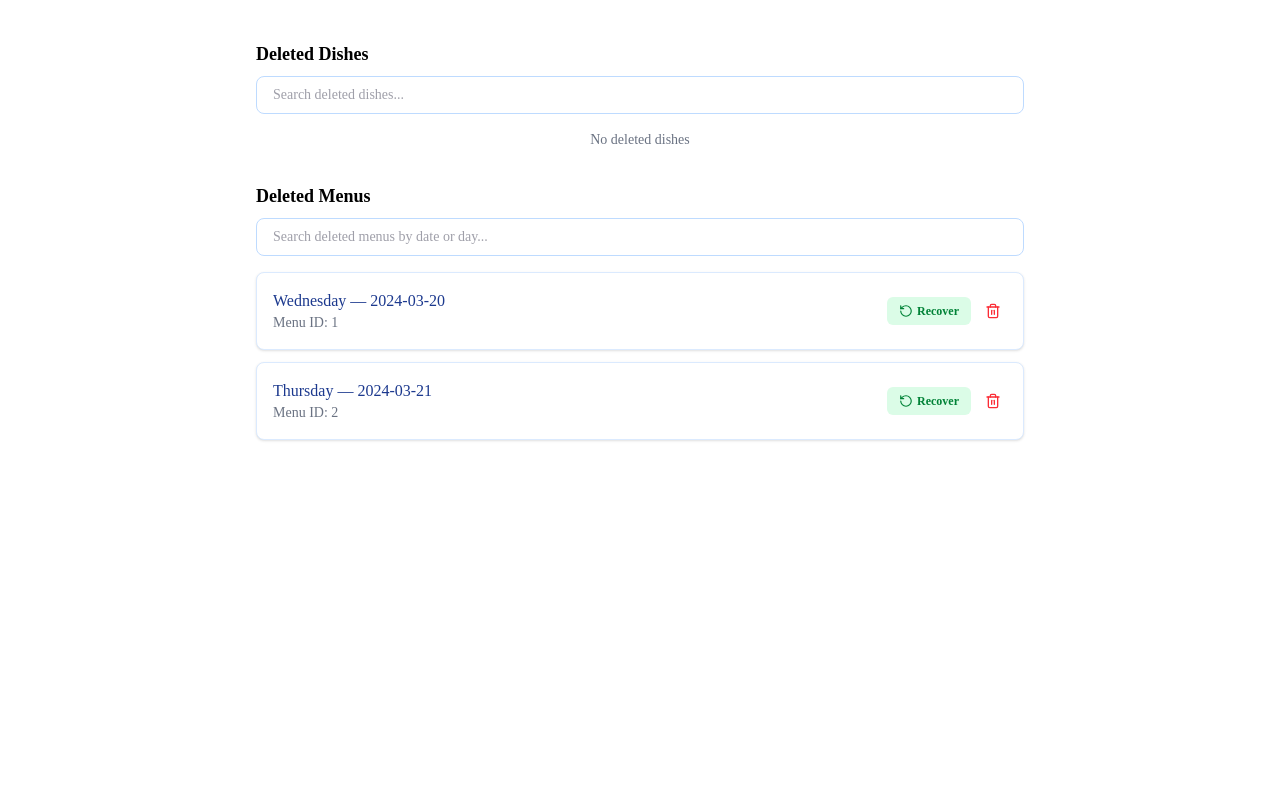
it: TrashBin › Hard Delete Functionality › does not delete when user cancels confirmation
The image size is (1280, 800).
Expected: the text "Wednesday — 2024-03-20" is shown, x1=273 y1=289 x2=445 y2=313
Click the button titled "Permanently delete menu" in the row of "2024-03-20". click: (993, 311)
box: x1=979 y1=297 x2=1007 y2=325
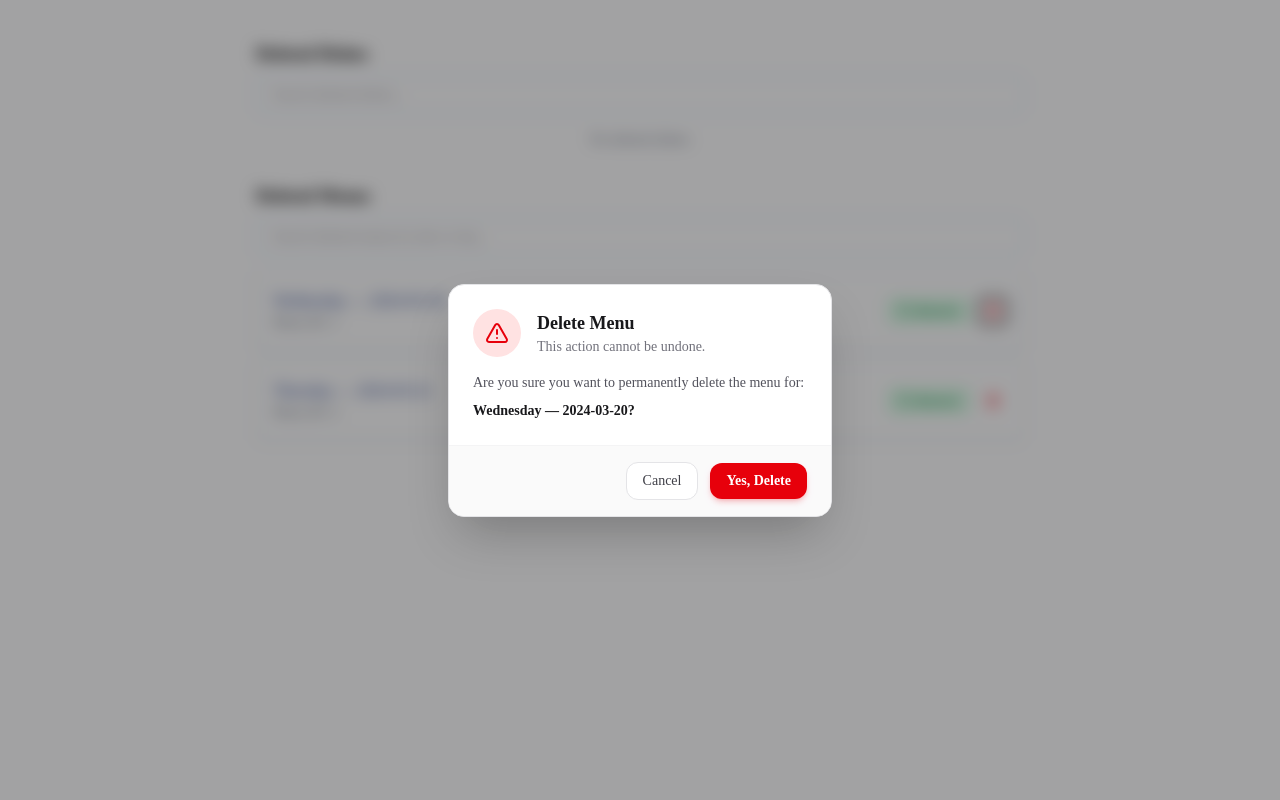
Click the button "Cancel". click: (662, 480)
box: x1=626 y1=462 x2=698 y2=500
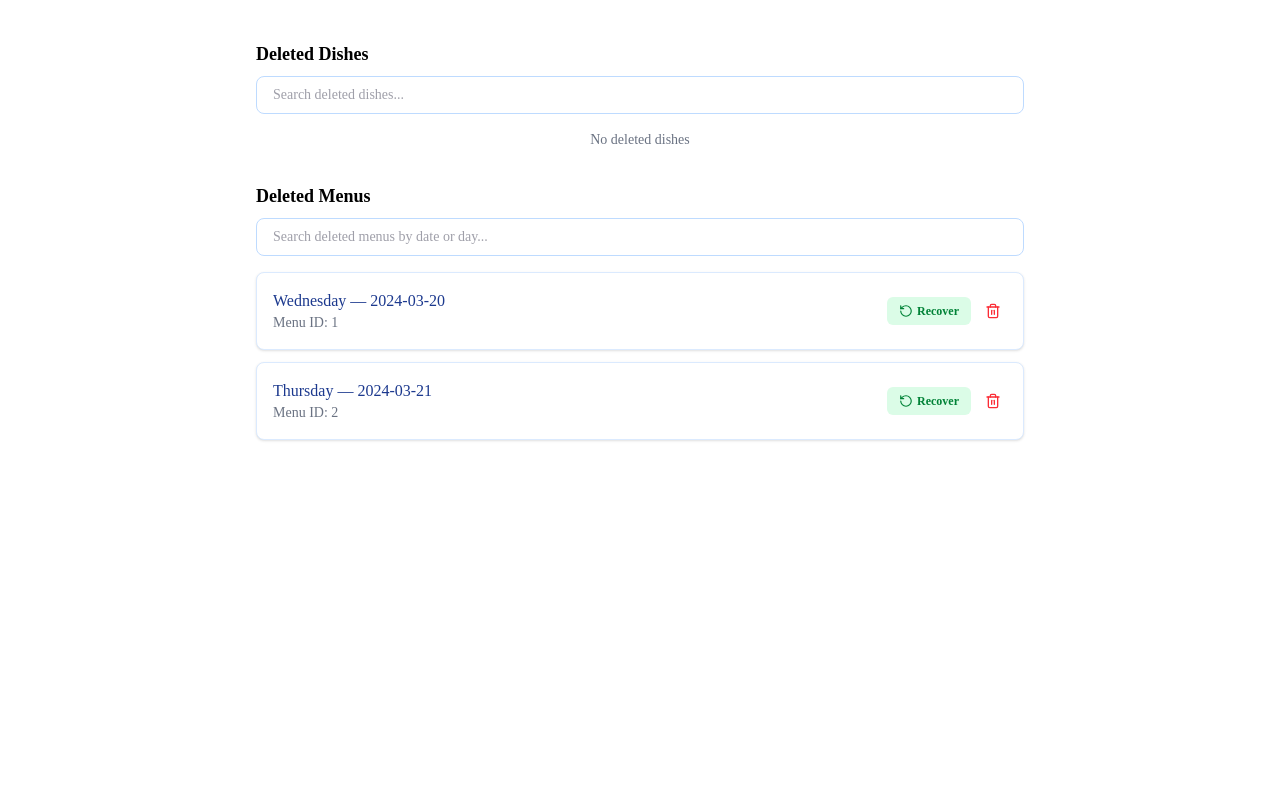
Result: the heading "Delete Menu" is gone
